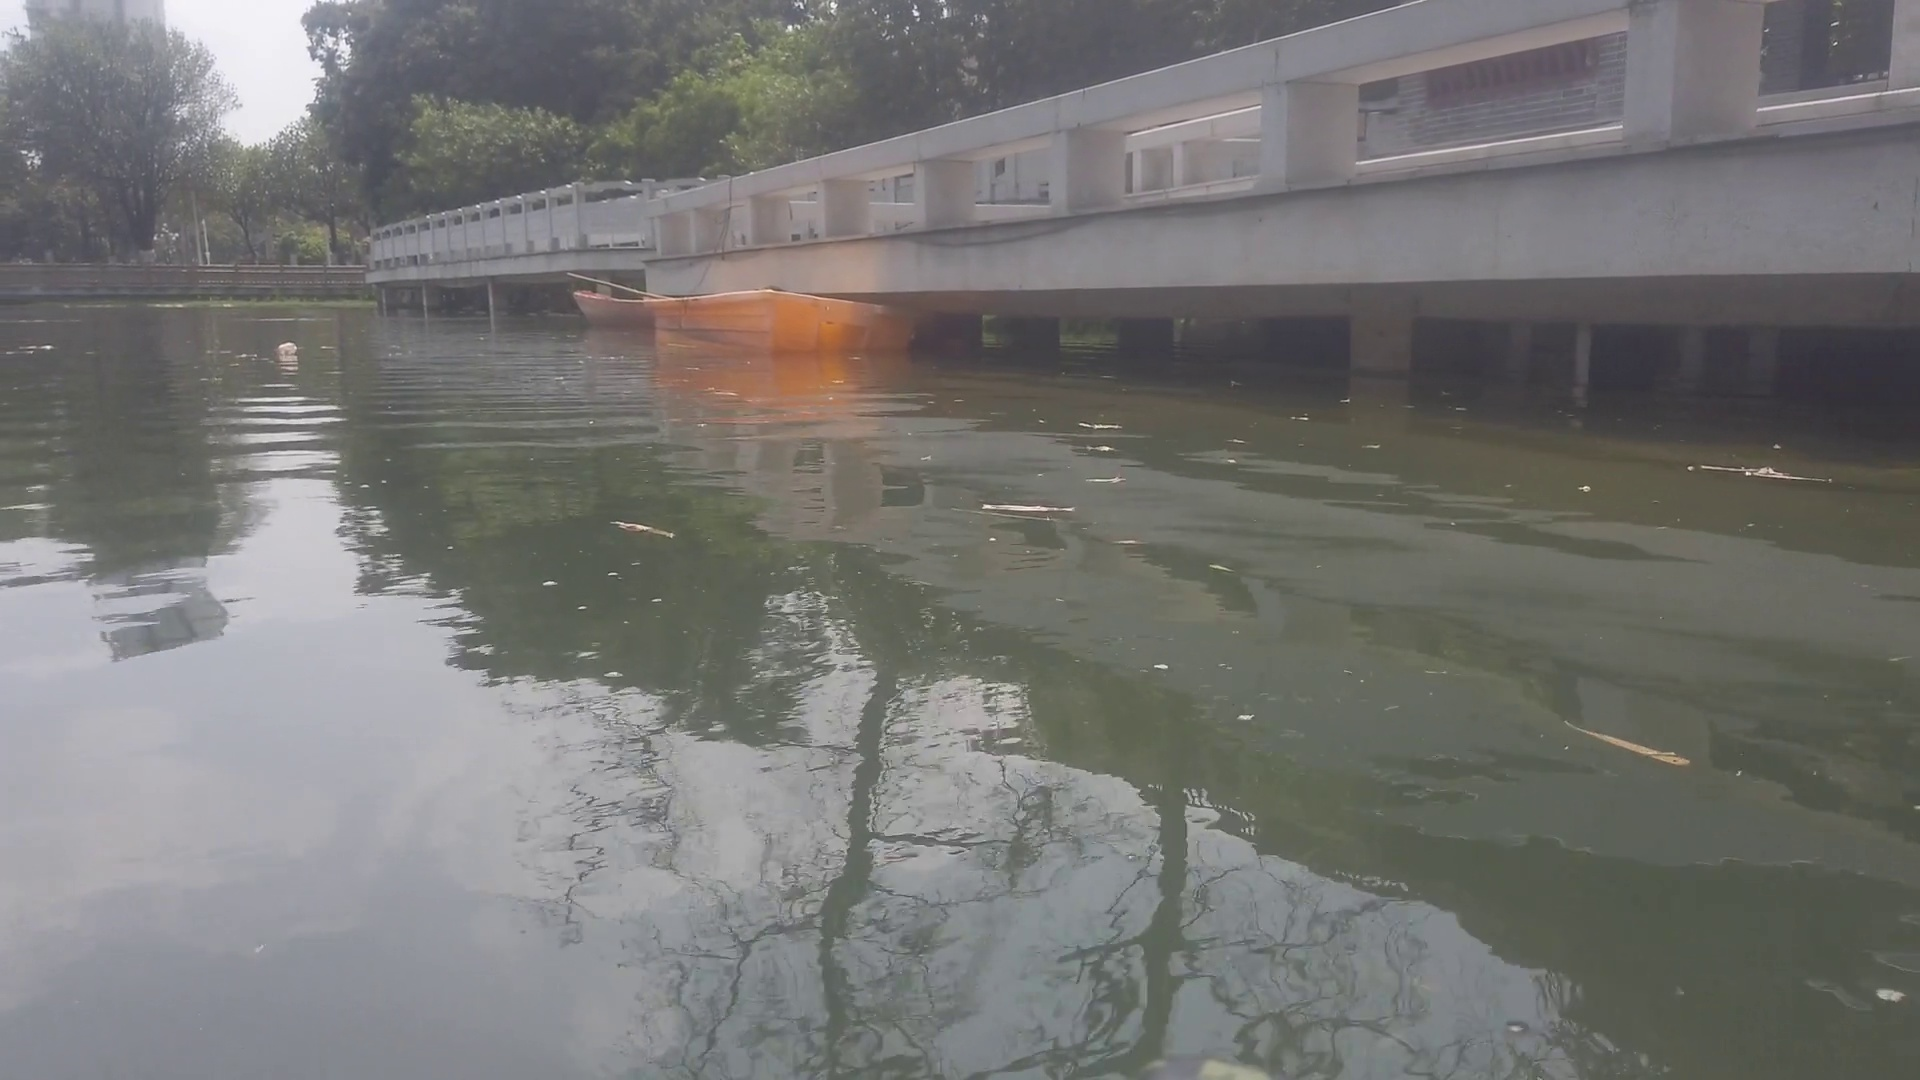bottle: (277, 339, 299, 355)
